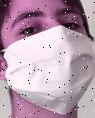with_mask: (1, 1, 95, 118)
